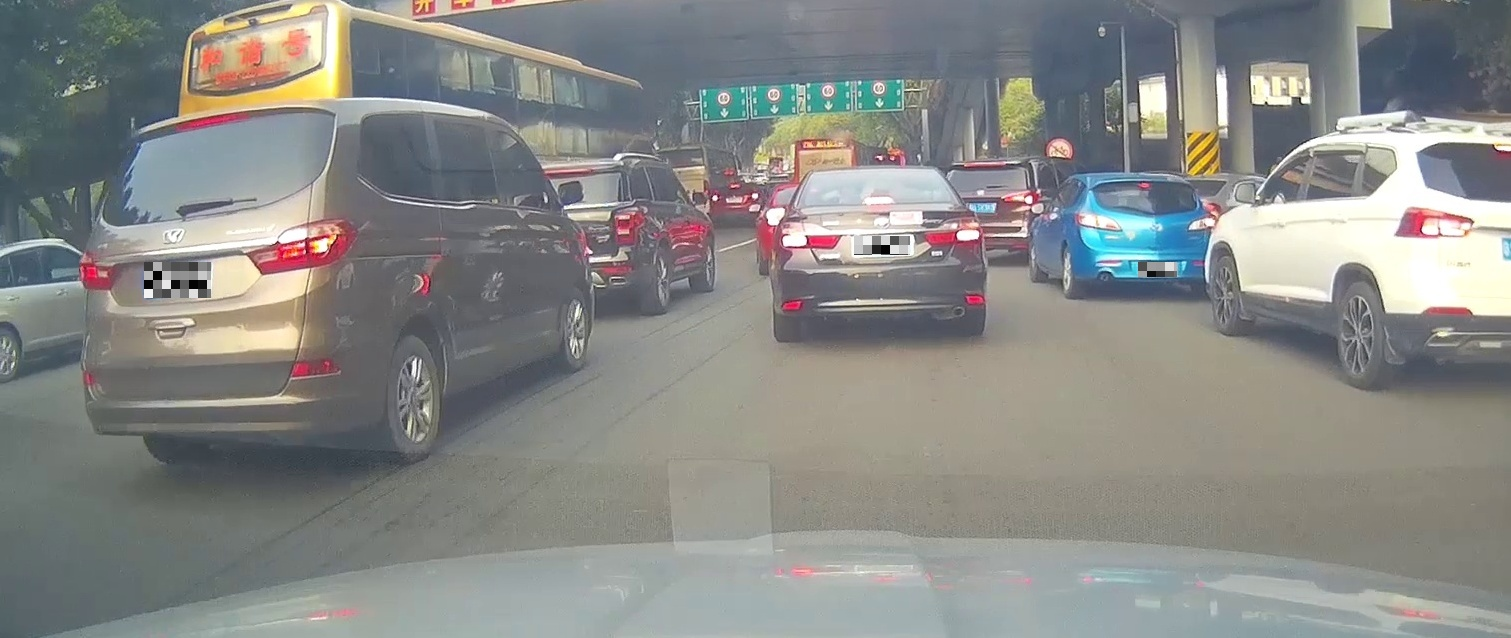L_light: (80, 252, 126, 292), (777, 222, 842, 249), (1076, 212, 1122, 233)
R_light: (245, 219, 358, 275), (924, 218, 983, 245), (1187, 216, 1215, 231)
T_light: (183, 112, 246, 127), (862, 195, 895, 207), (1135, 180, 1153, 189)
day-brake: (80, 98, 362, 464), (769, 164, 987, 341), (1074, 173, 1216, 301)
plate_1: (144, 262, 211, 298)
plate_2: (854, 236, 910, 255)
plate_3: (1138, 262, 1177, 277)
